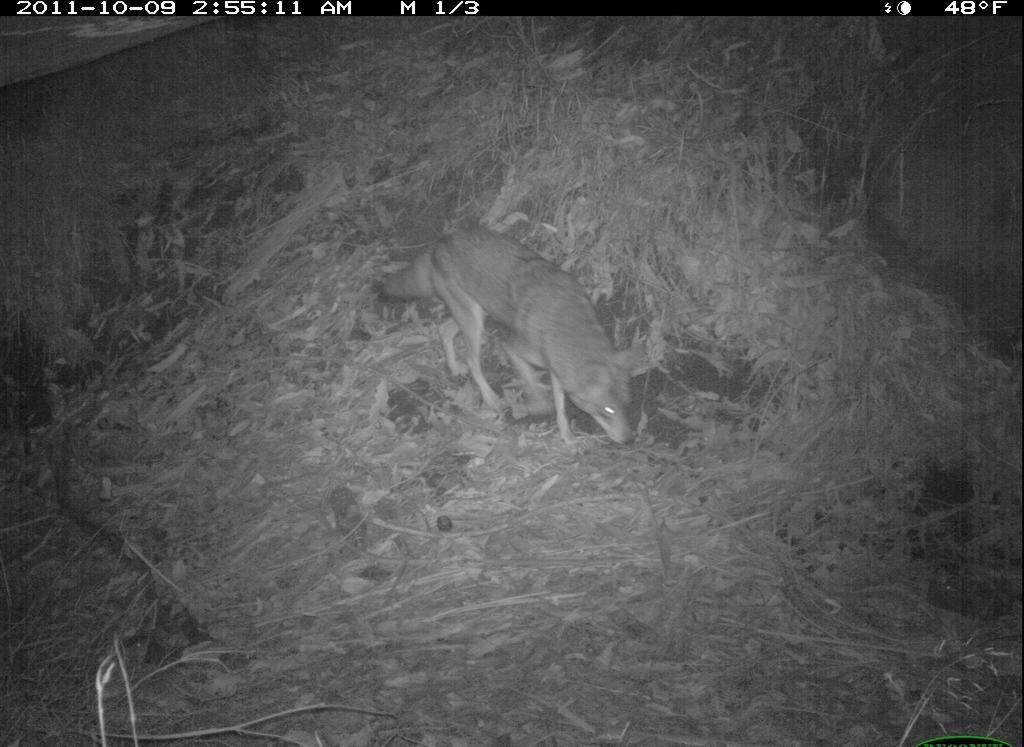coyote: (372, 223, 651, 461)
